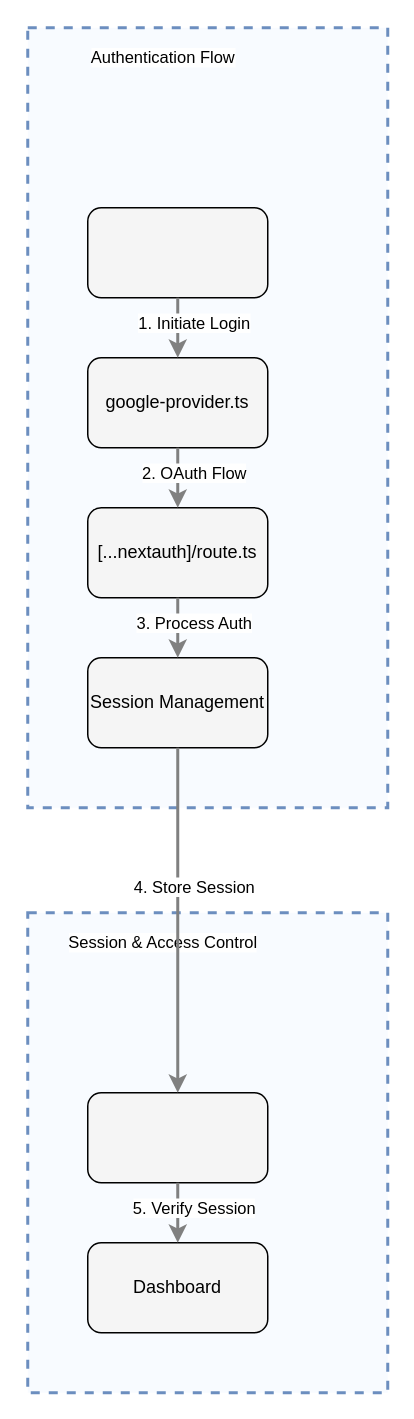
This 414x1419 diagram has some shape labels left out. The centre of each missing label's shape, as x and y in pixels:
"@app/(auth)/login/page.tsx" goes at pixel 177 252.
"Protected Route Handler" goes at pixel 177 1137.
